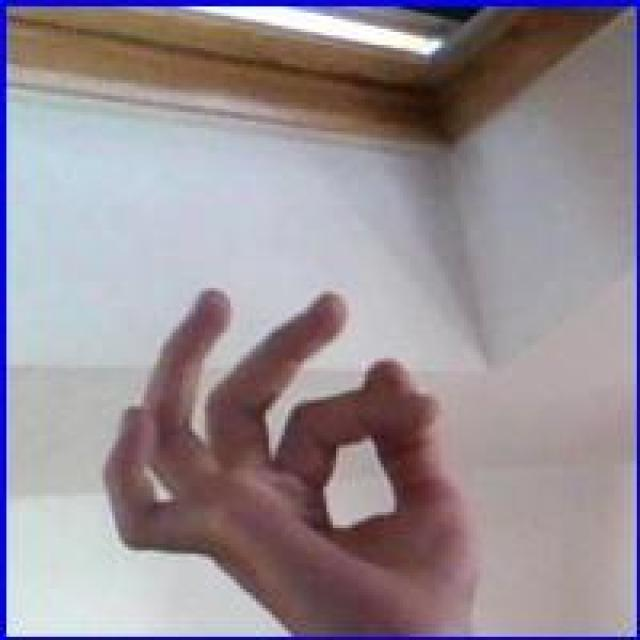F: (91, 286, 485, 629)
